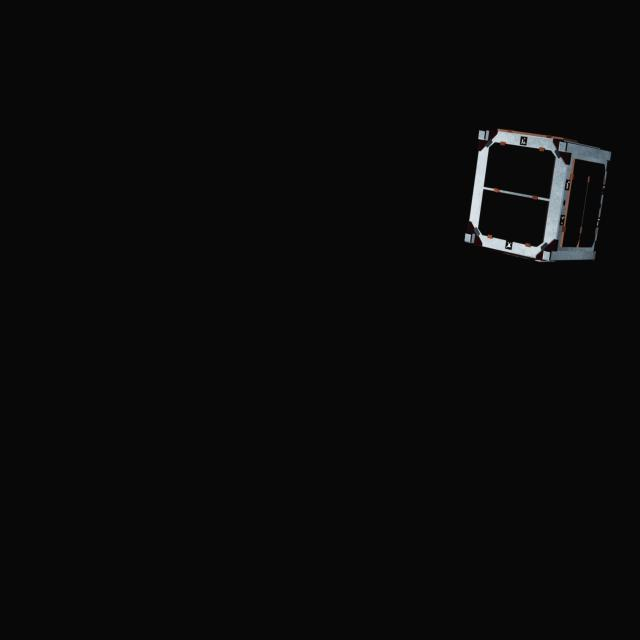satellite: (460, 120, 617, 269)
